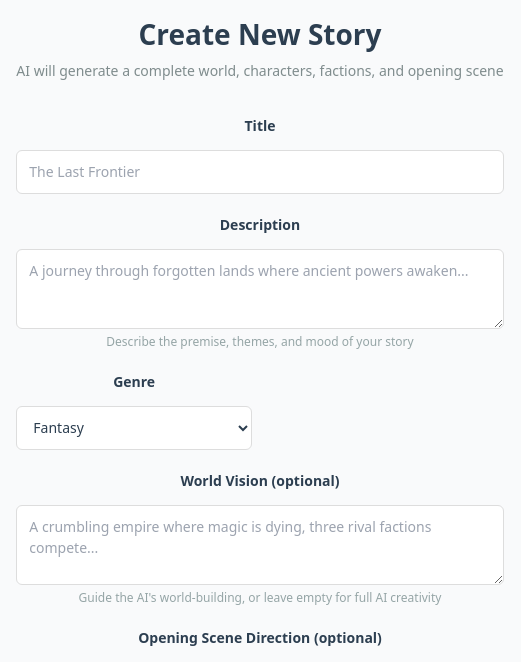
Test: CreateStoryPage › shows progress view after submission
In the field labelled "Title": (260, 172) [16,150,504,194], type "My Story"
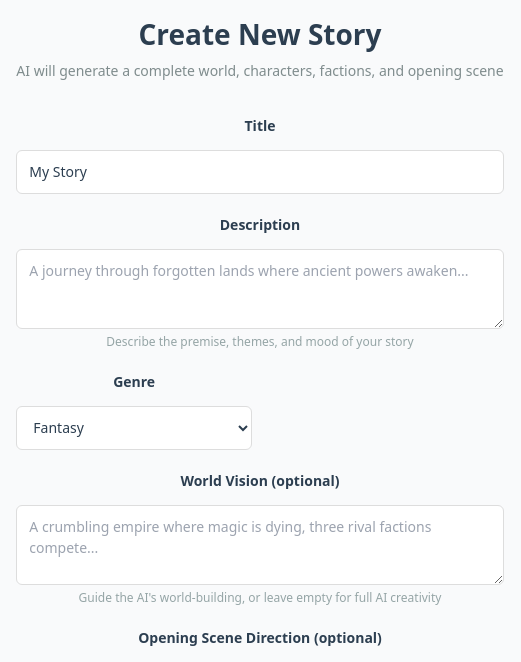
Replace the text in the text box labelled "Description" with "A great adventure": (260, 289) [16,249,504,329]
(page scrolled)
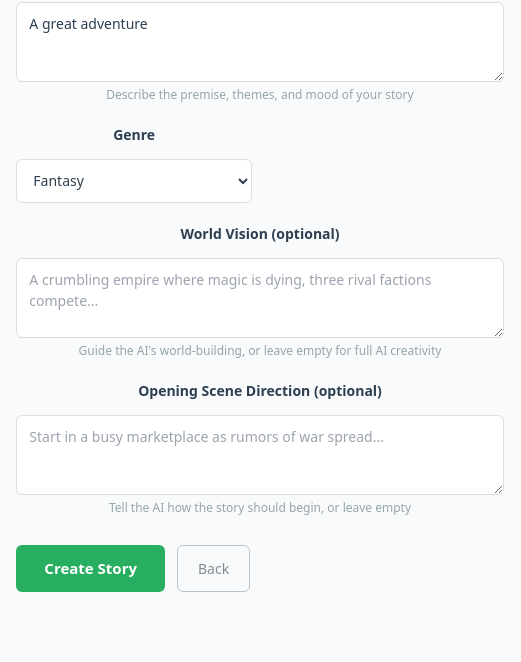
Click the button "Create Story": (91, 568) [16,545,165,592]
(page scrolled)
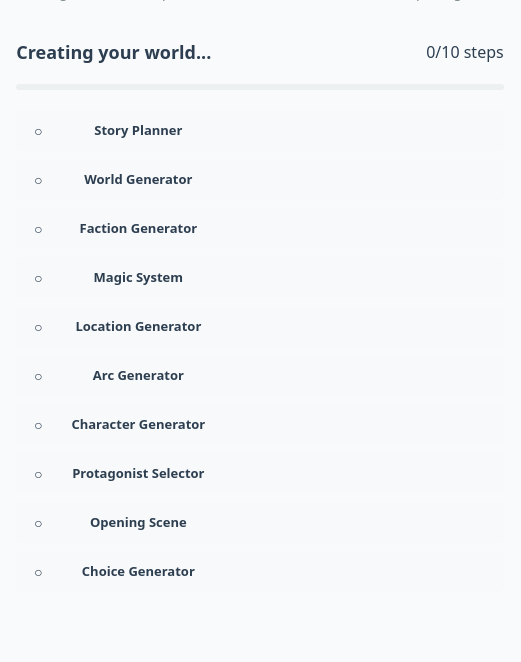
Now the heading "Creating your world..." is shown, box [16,36,211,68]
